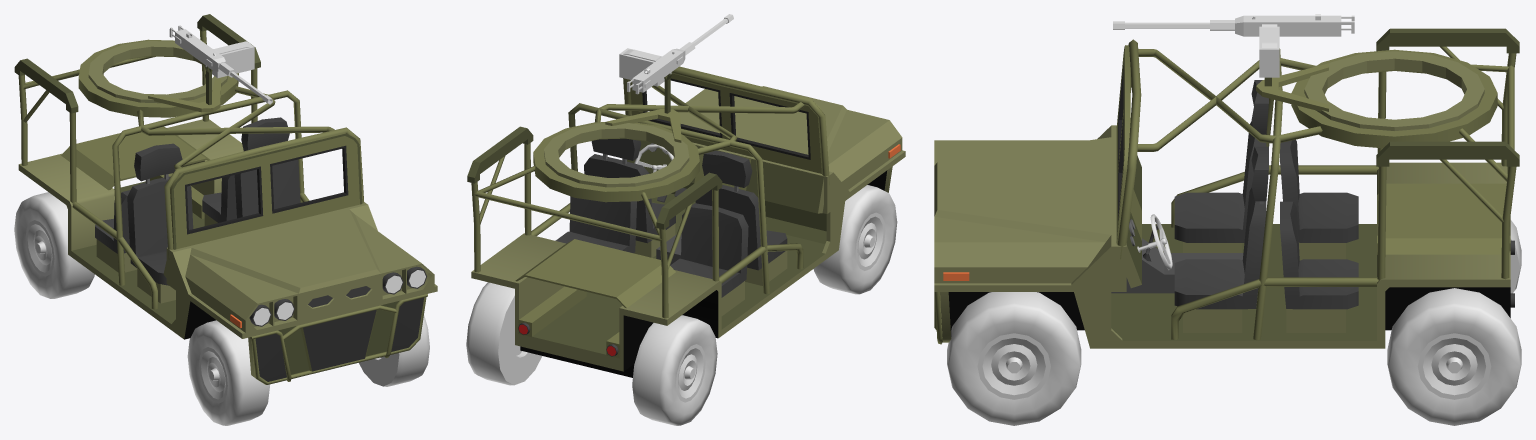
The model's file is Car4.fbx.
3 views of the same model, side by side, from view 1: azimuth 30°, elevation 25°; view 2: azimuth 150°, elevation 25°; view 3: azimuth 270°, elevation 25° (orthographic). The views are drawn at different scales.
Parts seen in each view (by area): view 1: CarBody, FR, BR, Rotator, CarGun, FL; view 2: CarBody, BR, FR, Rotator, BL, CarGun; view 3: CarBody, BL, FL, Rotator, CarGun, rudder, BR.
Boxes of the visible parts, x1,y1,x2,y2 form: CarBody: (14,14,437,384); FR: (187,320,269,425); BR: (14,192,94,298); Rotator: (88,41,227,112); CarGun: (169,25,272,104); FL: (359,315,429,386); CarBody: (467,66,905,377); BR: (632,315,717,425); FR: (813,185,897,294); Rotator: (544,72,689,187); BL: (466,282,542,385); CarGun: (619,14,733,94); CarBody: (934,28,1519,348); BL: (1387,288,1521,425); FL: (947,292,1081,425); Rotator: (1256,51,1484,130); CarGun: (1113,14,1354,77); rudder: (1137,214,1172,270); BR: (1510,220,1521,293).
Size of the model in its own units: 232 by 316 by 474.
